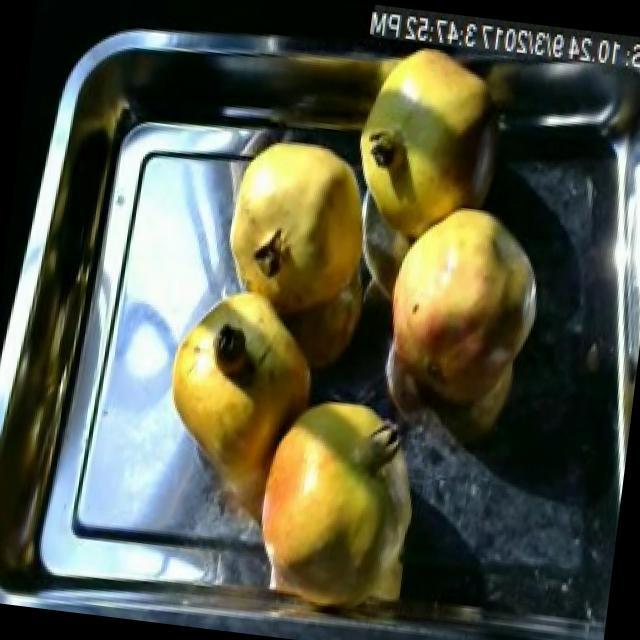fruit: (236, 378, 441, 631), (368, 192, 561, 428), (156, 263, 337, 479), (342, 34, 510, 258), (204, 119, 379, 332)
